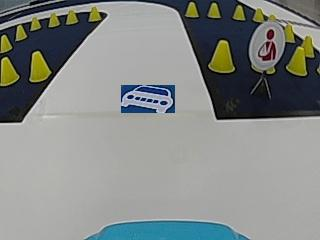cone: (208, 39, 235, 74), (28, 51, 50, 82), (287, 47, 306, 76), (0, 56, 18, 85), (0, 33, 13, 51), (207, 3, 221, 18), (185, 2, 199, 17), (284, 23, 295, 42), (65, 9, 78, 24), (232, 5, 245, 20), (252, 7, 265, 21), (88, 6, 100, 21), (16, 25, 28, 40), (48, 13, 60, 27), (30, 16, 41, 30)
patient: (251, 23, 283, 67)
